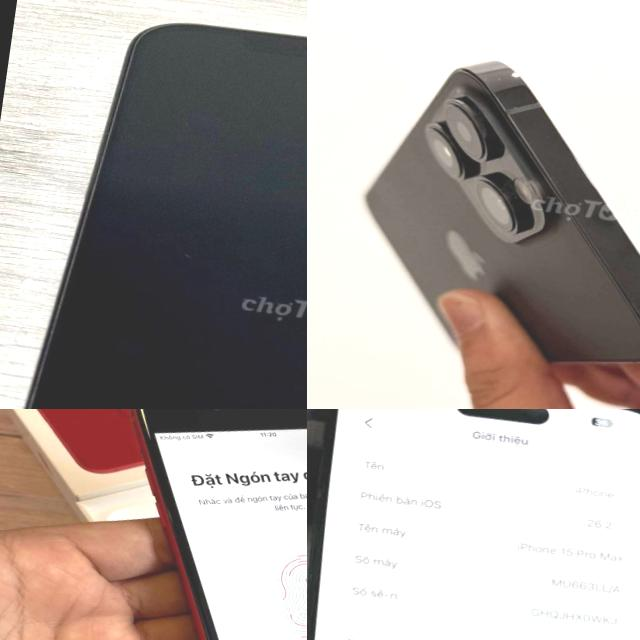gen_12_13: (0, 0, 307, 409)
gen_14: (311, 35, 640, 409)
gen_15: (307, 409, 640, 640)
gen_7_8: (84, 409, 307, 640)
